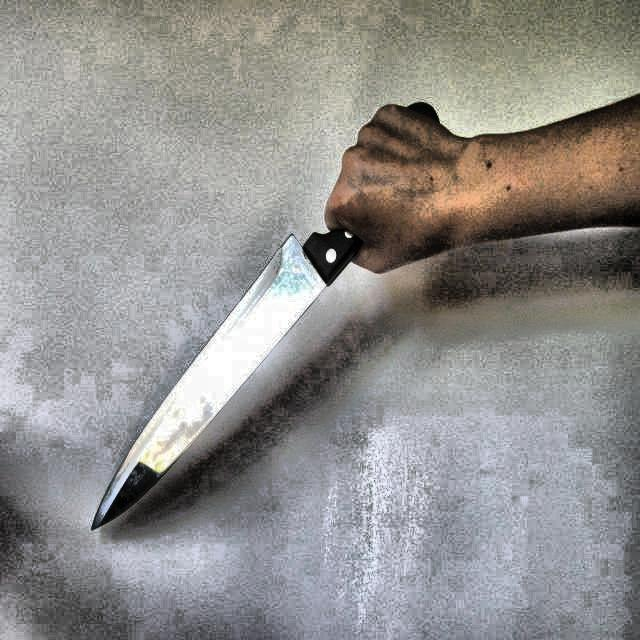knife: (92, 105, 440, 530)
